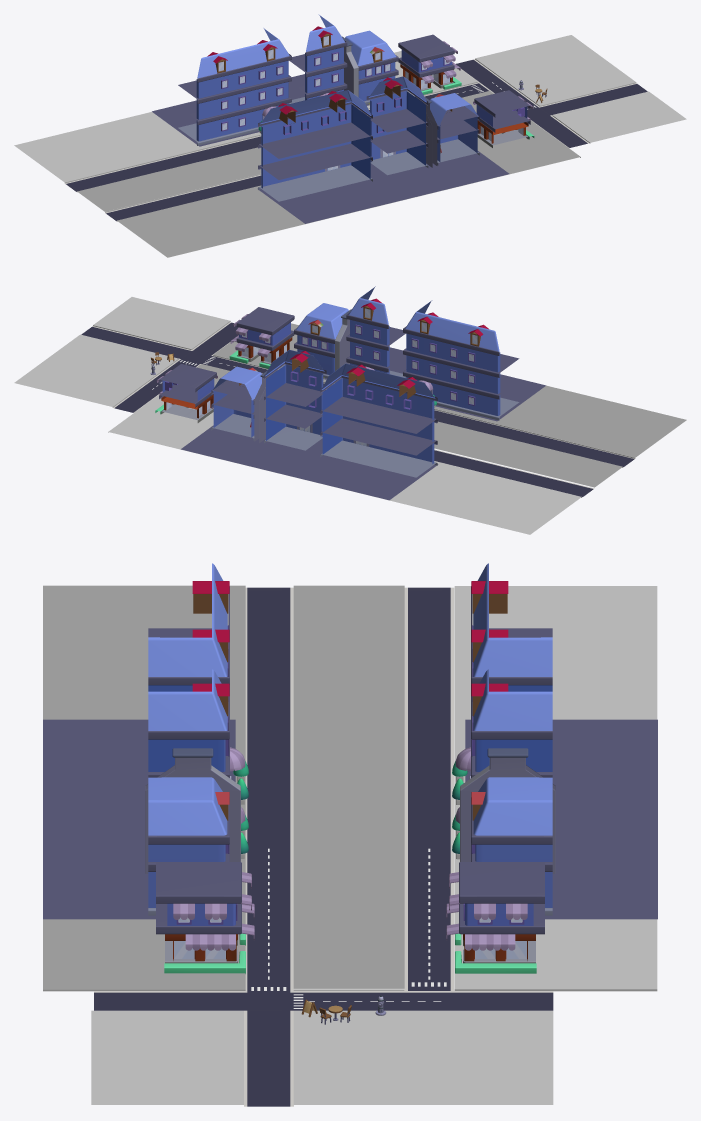
The model's file is BG_home1.fbx.
3 views of the same model, one above another, from view 1: azimuth 30°, elevation 25°; view 2: azimuth 150°, elevation 25°; view 3: azimuth 270°, elevation 25° (orthographic). The views are drawn at different scales.
Parts seen in each view (by area): view 1: House, House1, Gradientshadow, polySurface31, polySurface27, polySurface30, polySurface28, ground1; view 2: House1, House, Gradientshadow, polySurface31, polySurface27, polySurface30, polySurface28, ground1, polySurface29; view 3: Gradientshadow, House1, House, polySurface30, polySurface31, polySurface27, ground1, polySurface28.
Part boxes in pixels (x1,y1,x2,y2): House: [257, 76, 534, 223]; House1: [152, 14, 461, 146]; Gradientshadow: [77, 91, 580, 257]; polySurface31: [14, 51, 477, 183]; polySurface27: [475, 35, 636, 106]; polySurface30: [105, 59, 647, 221]; polySurface28: [552, 91, 686, 143]; ground1: [65, 82, 488, 192]; House1: [155, 349, 438, 500]; House: [229, 286, 545, 421]; Gradientshadow: [197, 323, 686, 487]; polySurface31: [108, 395, 581, 534]; polySurface27: [14, 334, 178, 407]; polySurface30: [81, 322, 635, 467]; polySurface28: [93, 297, 230, 349]; ground1: [434, 449, 594, 497]; polySurface29: [213, 355, 683, 458]; Gradientshadow: [43, 585, 404, 988]; House1: [446, 563, 657, 973]; House: [43, 563, 254, 973]; polySurface30: [94, 587, 553, 1106]; polySurface31: [454, 586, 657, 991]; polySurface27: [293, 1010, 553, 1104]; ground1: [404, 587, 454, 990]; polySurface28: [91, 1010, 243, 1104].
Size of the model in its own units: 302 by 45.69 by 151.
